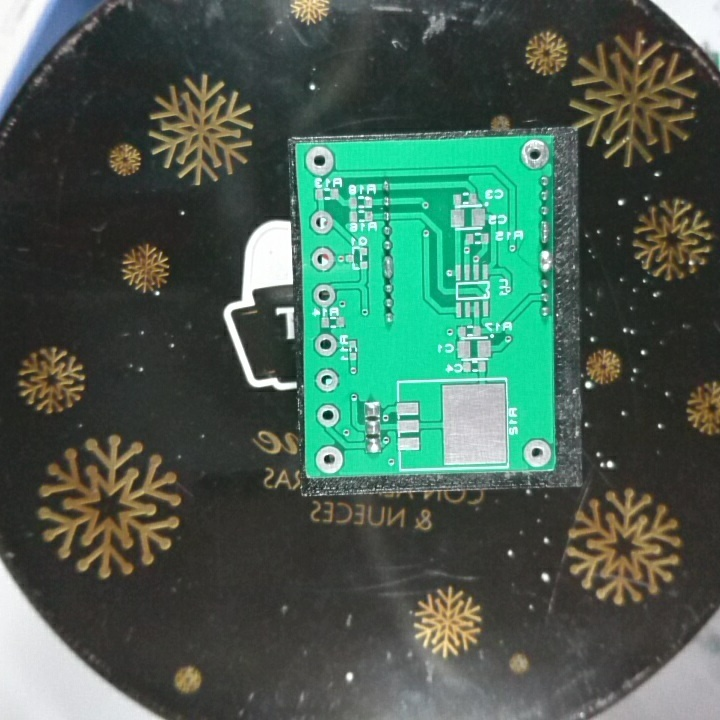F: (302, 143, 336, 178), (519, 138, 551, 173), (519, 437, 553, 468), (313, 443, 345, 474), (311, 367, 341, 394), (312, 331, 339, 358), (311, 282, 337, 310), (307, 209, 334, 235), (309, 245, 335, 272), (314, 403, 339, 429)
P: (535, 247, 552, 275), (537, 217, 551, 246), (379, 252, 394, 279)
